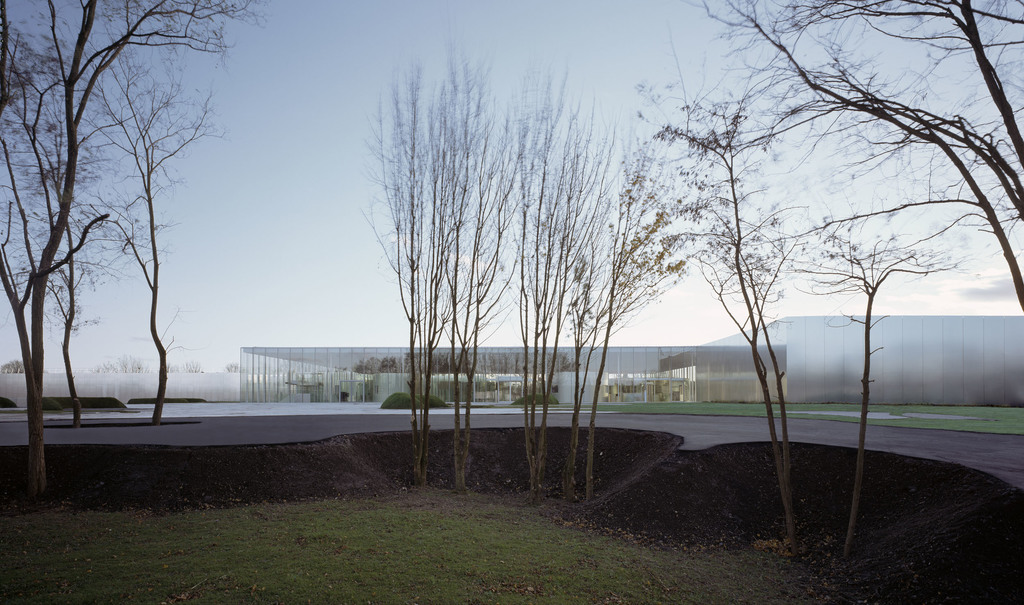Tree: (0, 0, 263, 492), (645, 0, 1023, 317), (373, 42, 656, 454), (56, 28, 233, 421), (30, 161, 122, 417)
